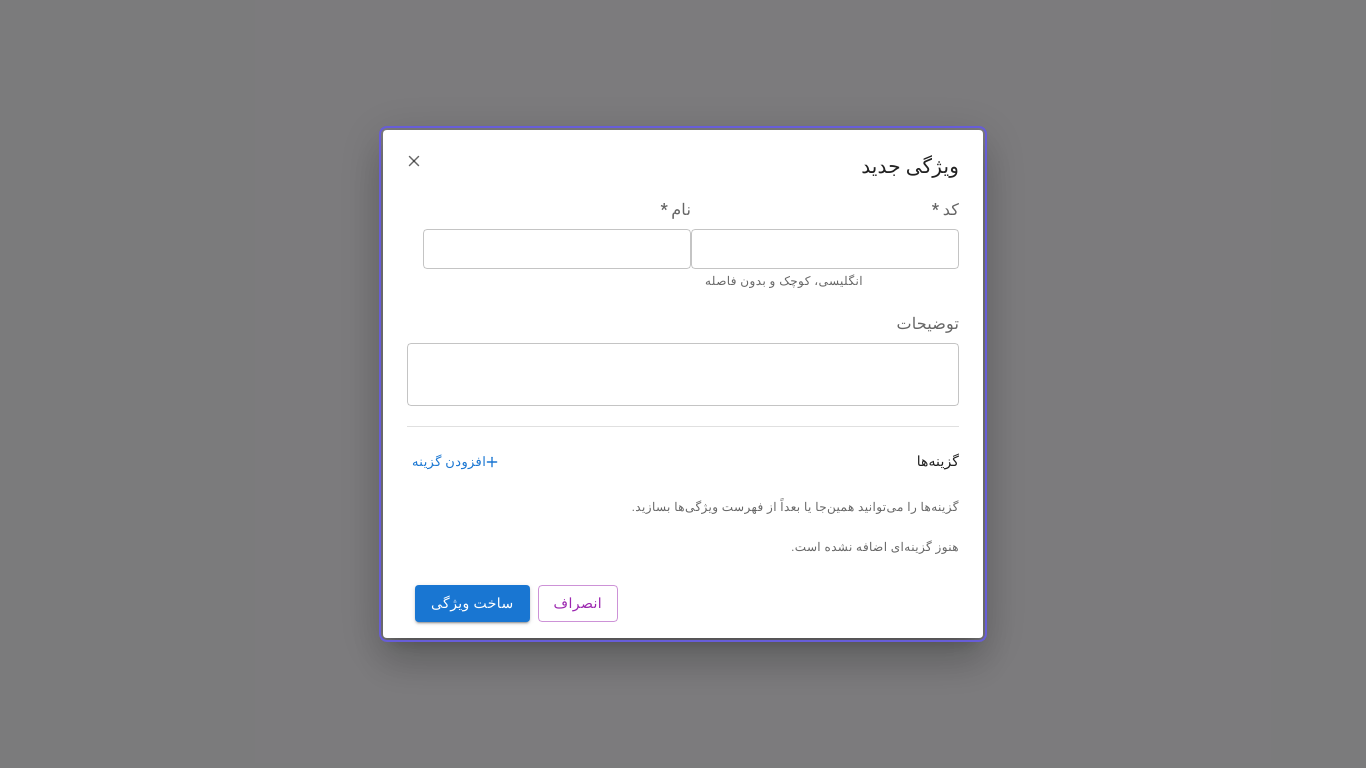
Test: AttributeDialog › creates an attribute with options and resets the idempotency key after success
Type "COLOR" into the field labelled "کد *" at x=825, y=249, box [691,229,959,269]
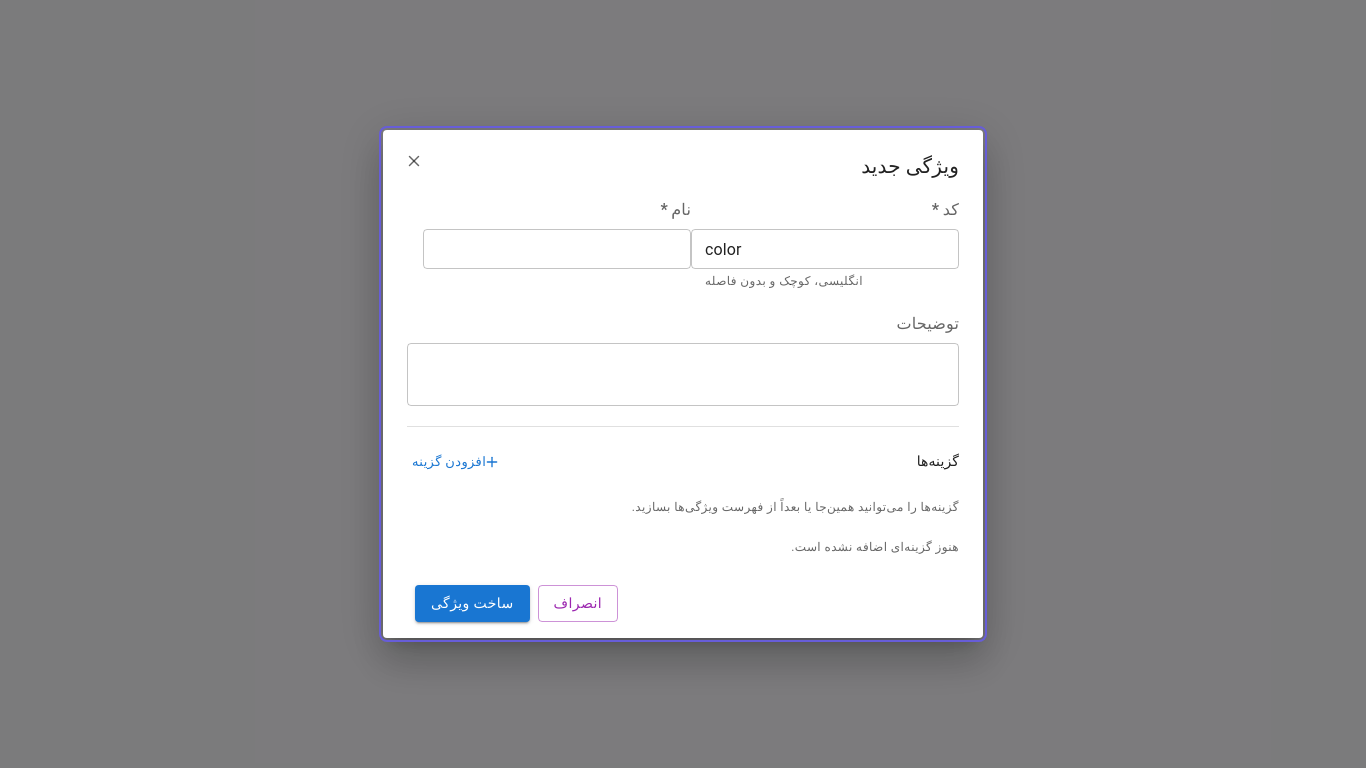
Type "رنگ" into the field labelled "نام *" at x=557, y=249, box [423,229,691,269]
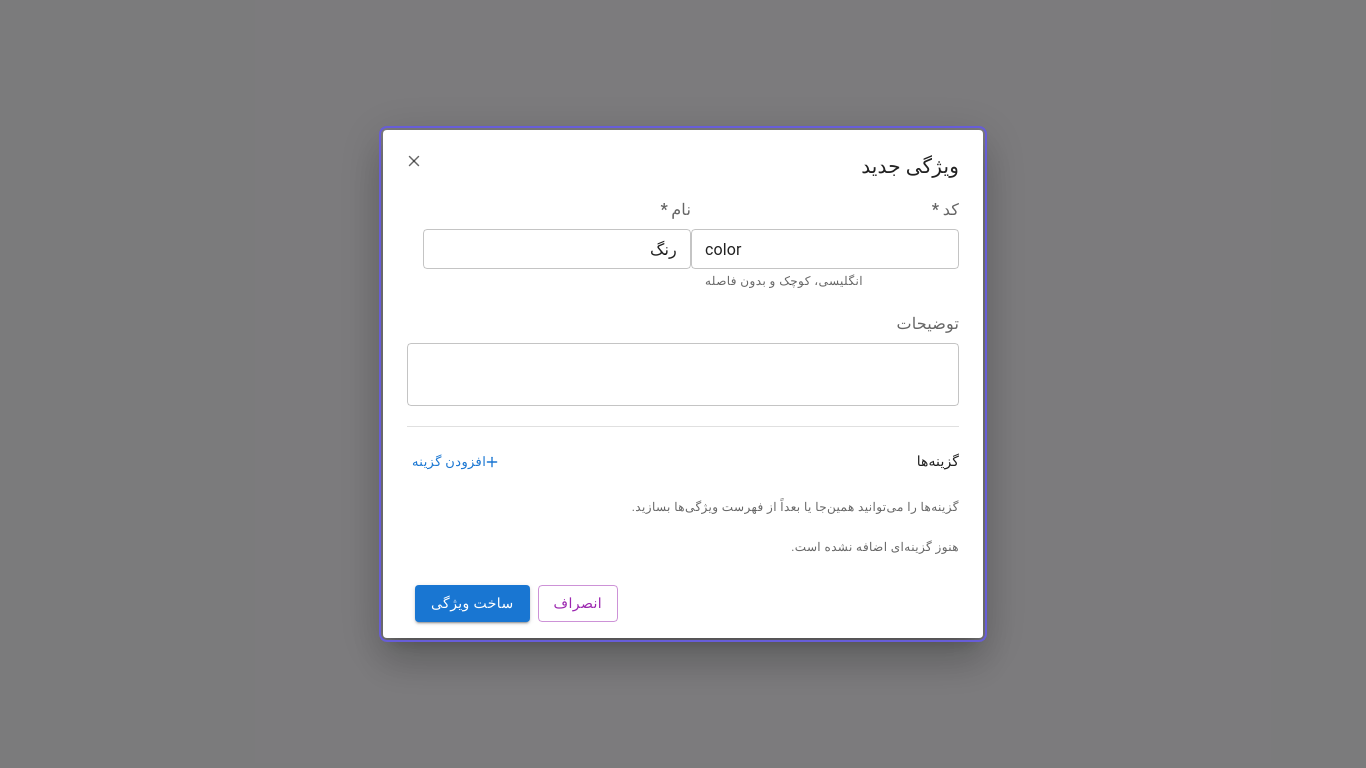
Click the button "افزودن گزینه" at x=460, y=462, box [407,447,513,478]
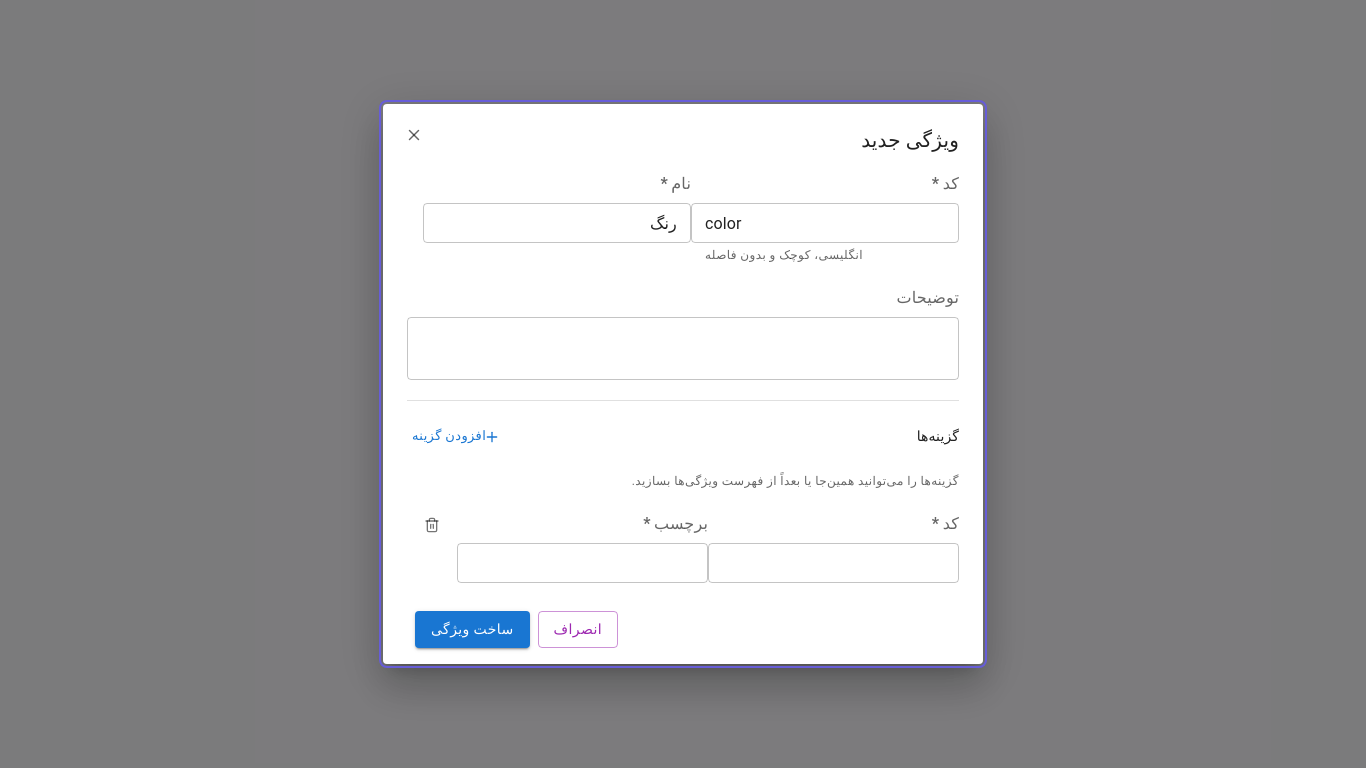
Type "RED" into the field labelled "کد *" below "برچسب" at x=834, y=563, box [708,543,959,583]
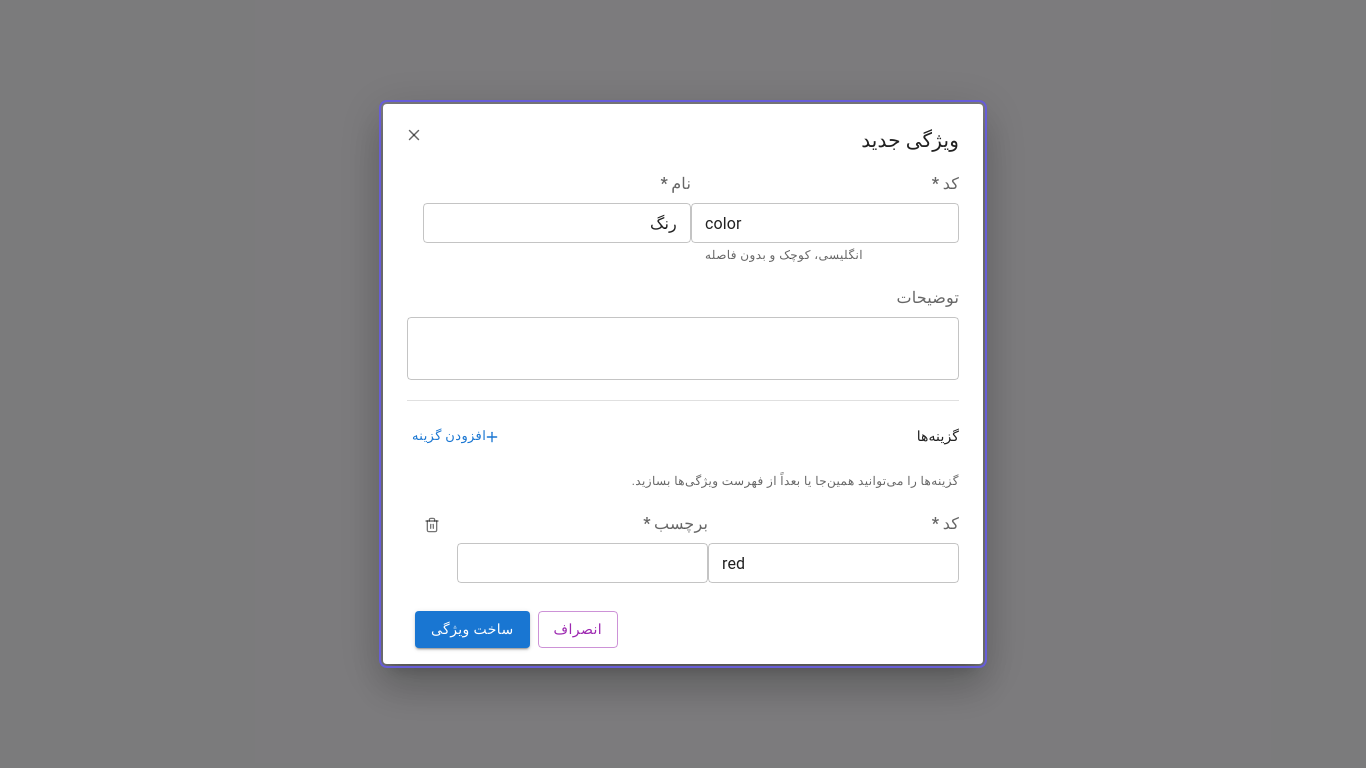
Type "قرمز" into the field labelled "برچسب *" at x=582, y=563, box [457,543,708,583]
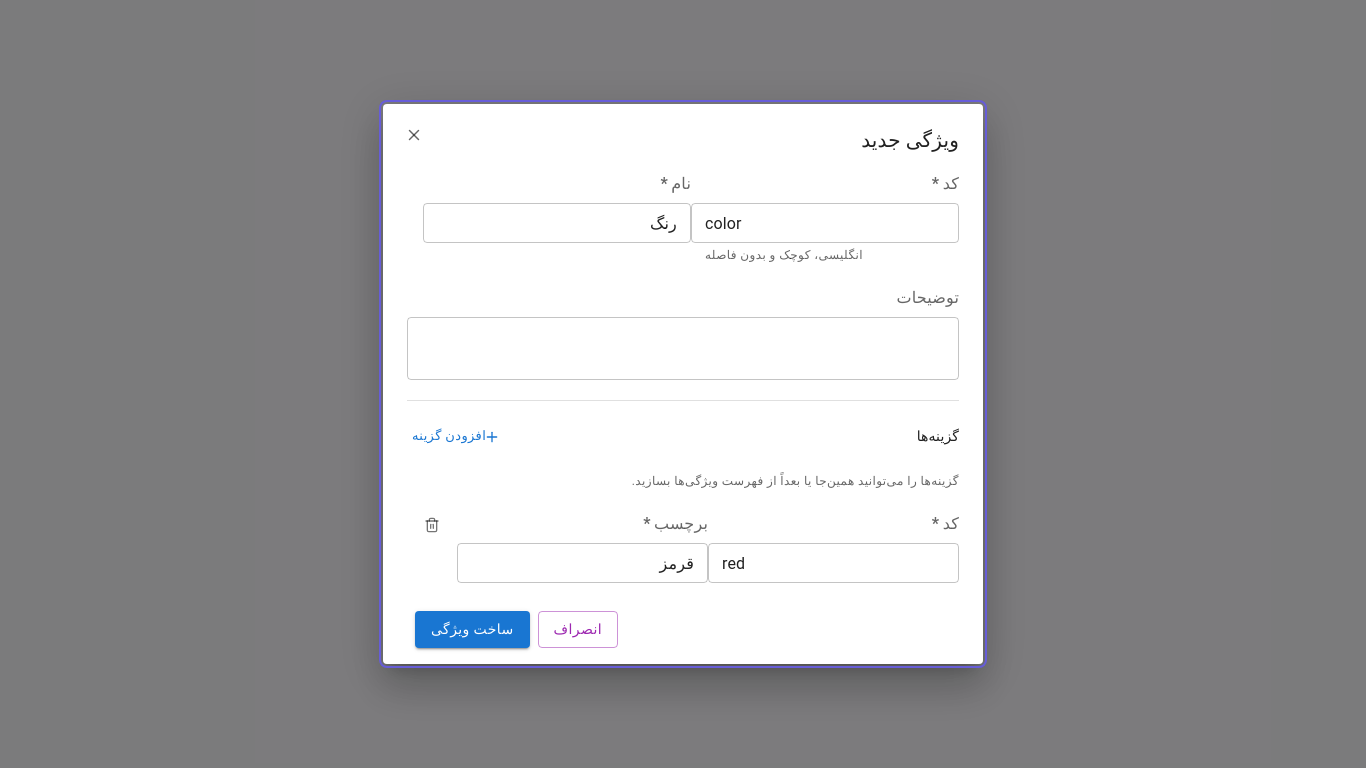
Click the button "ساخت ویژگی" at x=472, y=629, box [415,611,530,648]
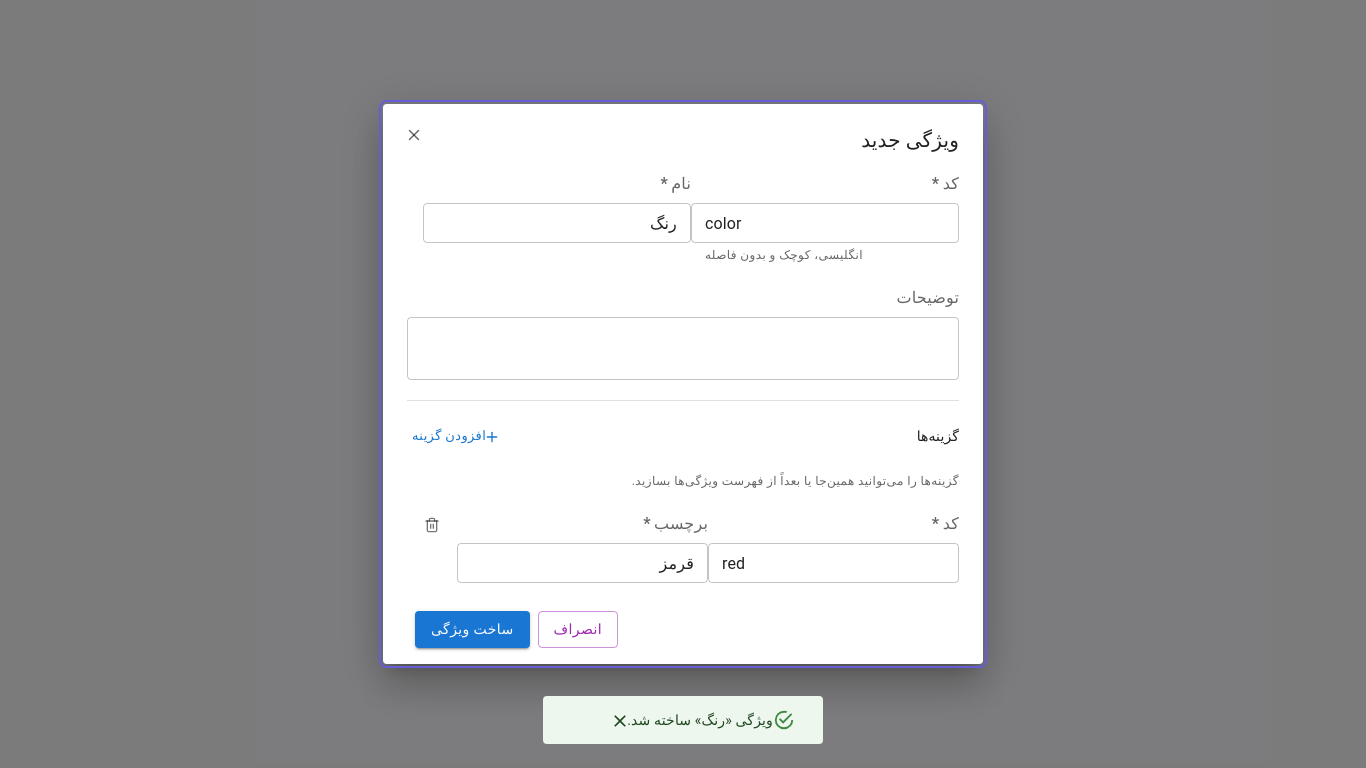
Check: the text "ویژگی «رنگ» ساخته شد." is shown, box [627,712,773,728]
